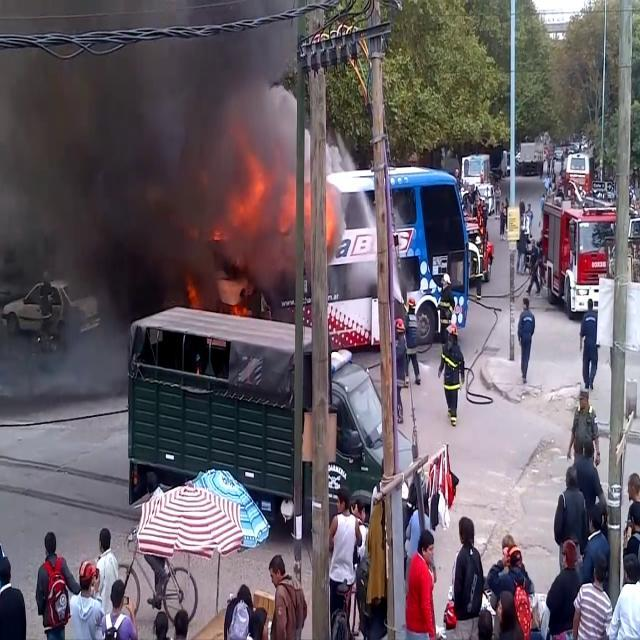Smoke: (0, 0, 300, 318)
